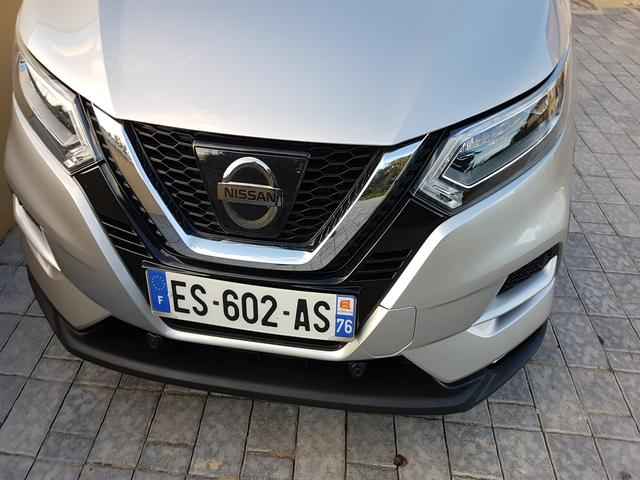Quashquai: (121, 233, 379, 372)
